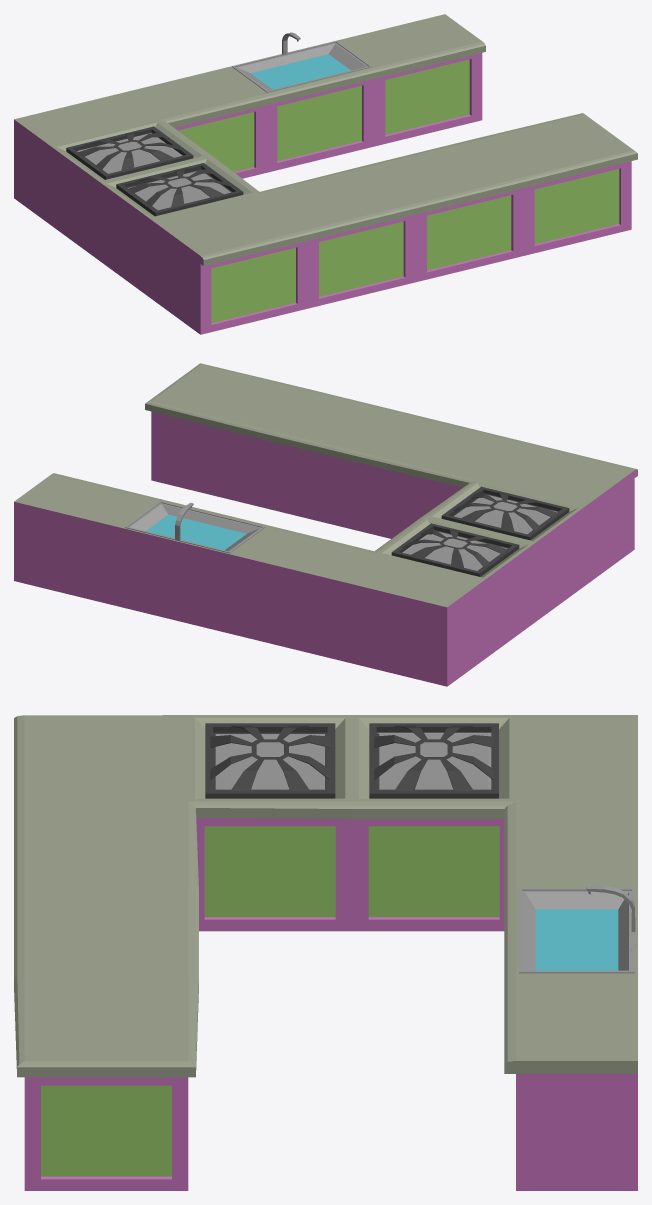
The picture shows the model from 3 angles, top to bottom: view 1: azimuth 30°, elevation 25°; view 2: azimuth 150°, elevation 25°; view 3: azimuth 270°, elevation 25°; orthographic projection. The views are drawn at different scales.
Visible parts, largest first — view 1: Plane; view 2: Plane; view 3: Plane.
Boxes of the visible parts, bbox=[...] form: Plane: bbox=[14, 14, 637, 334]; Plane: bbox=[14, 363, 637, 686]; Plane: bbox=[14, 715, 637, 1190].
Bounding box in the file's own units: 288 × 218 × 66.87.
